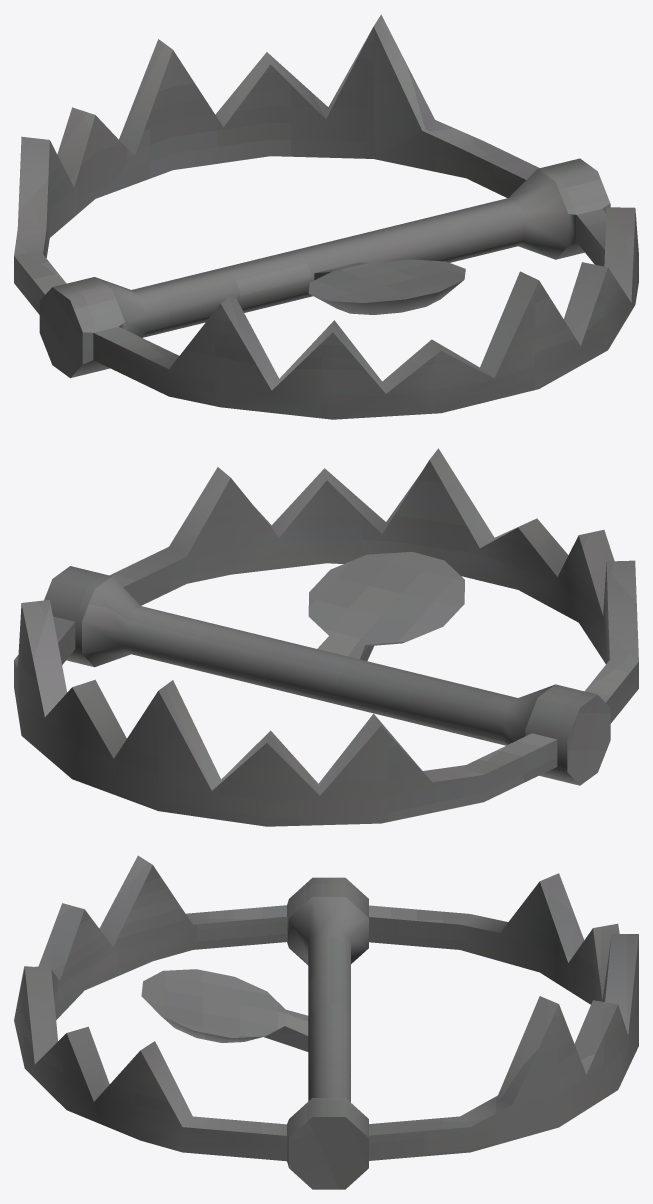
Rendered from Bear_Trap.fbx.
3 views of the same model, one above another, from view 1: azimuth 30°, elevation 25°; view 2: azimuth 150°, elevation 25°; view 3: azimuth 270°, elevation 25° (orthographic). The views are drawn at different scales.
Parts seen in each view (by area): view 1: pPipe6; view 2: pPipe6; view 3: pPipe6.
Part boxes in pixels (x1,y1,x2,y2): pPipe6: (14, 14, 638, 419); pPipe6: (14, 448, 638, 826); pPipe6: (14, 855, 638, 1189).
Size of the model in its own units: 14.52 by 4.17 by 16.03.
